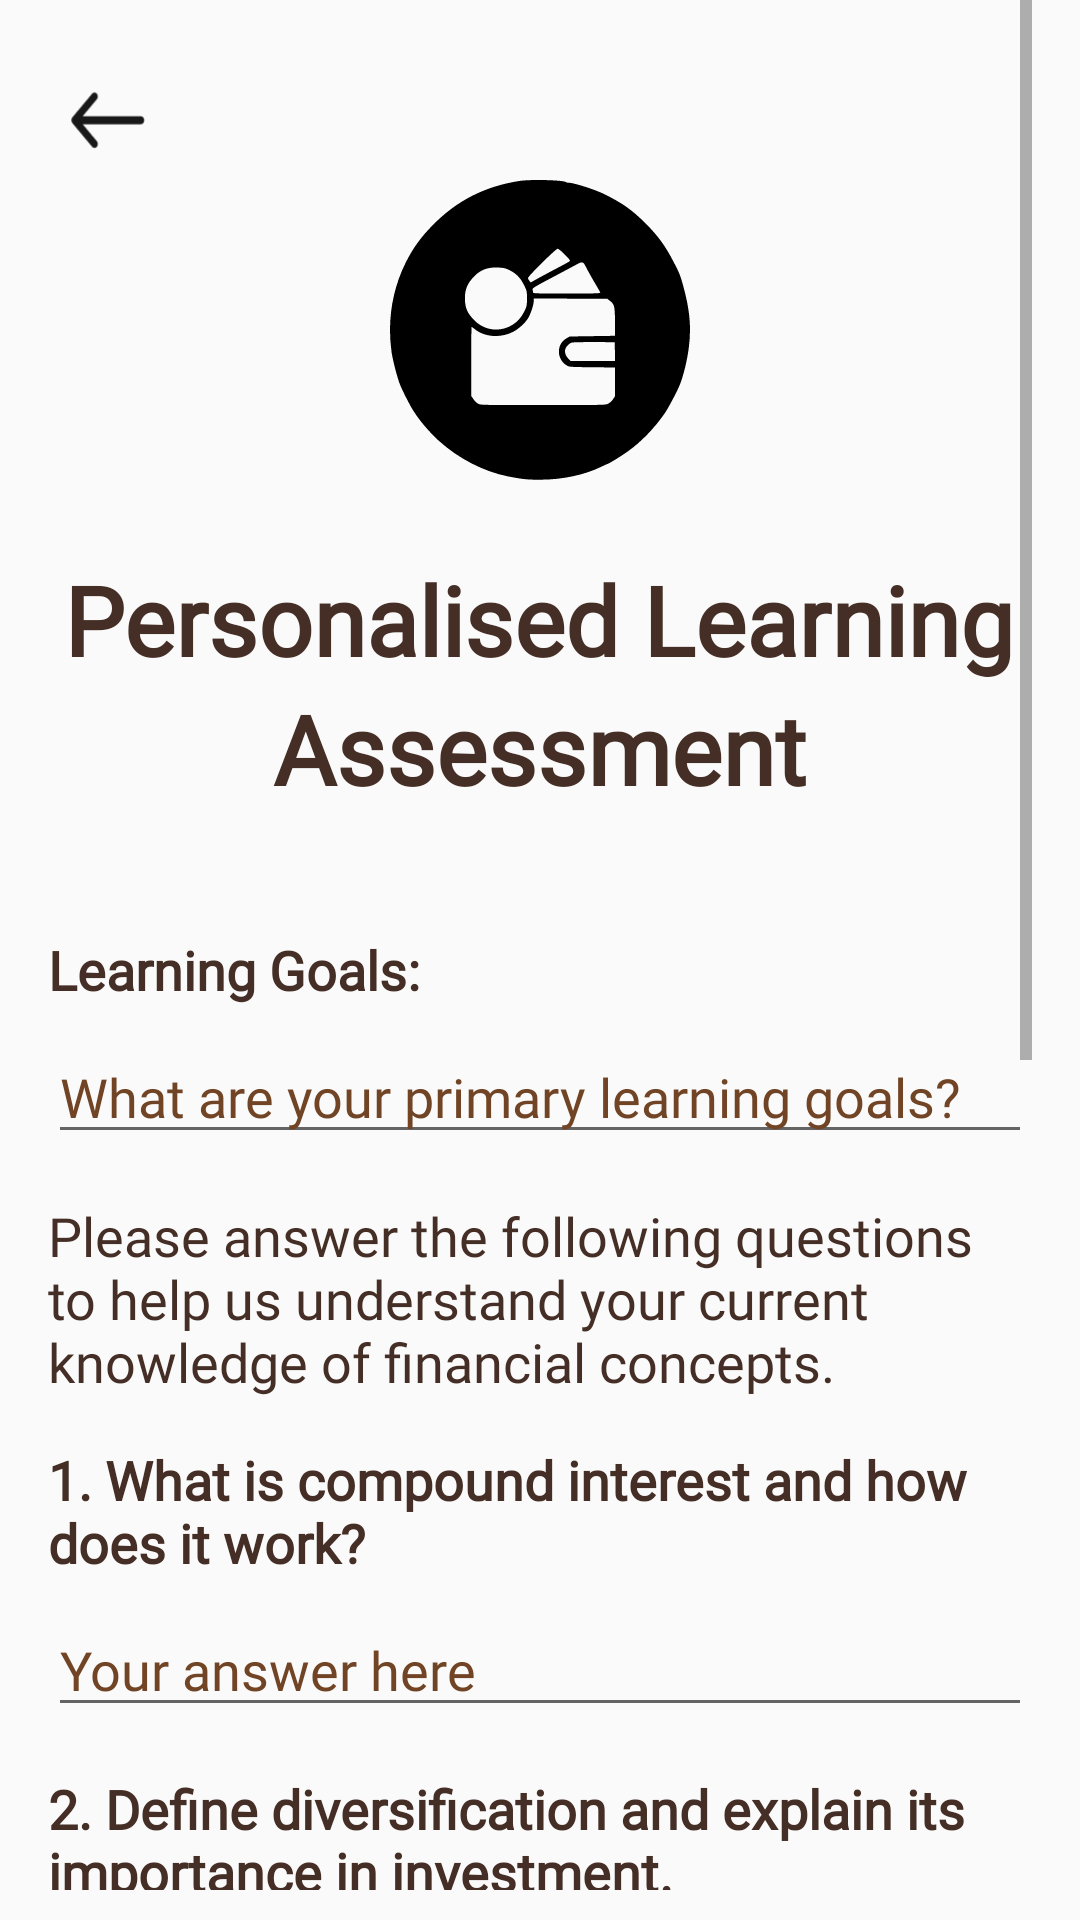

Screen size 1080x1920. Icon name, then its box in pixels as (x1, y1, x2, y2):
left arrow: (71, 92, 145, 148)
